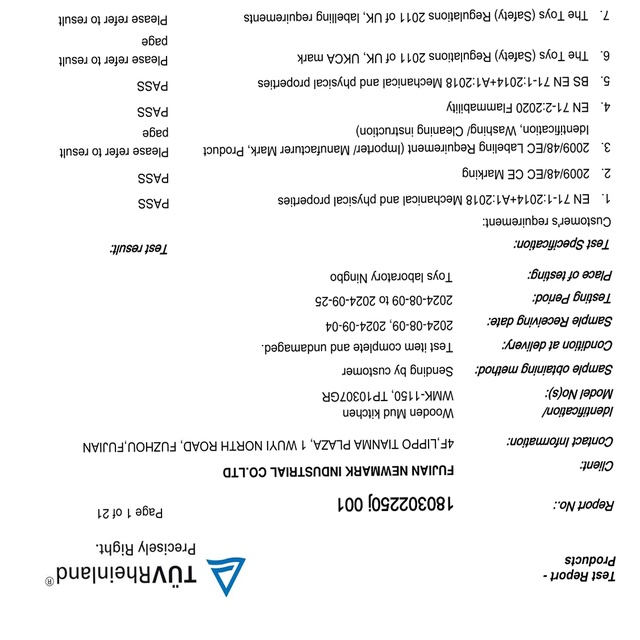tuv_rheinland: (42, 553, 247, 598)
